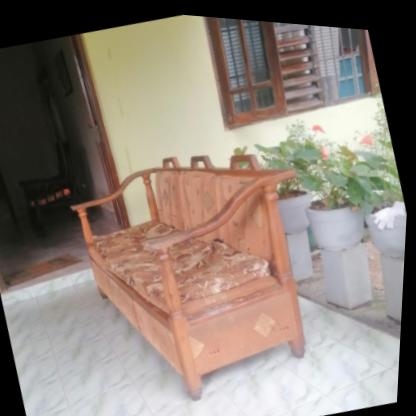Ceramic floor: (3, 262, 404, 416)
Sofa: (55, 113, 352, 416)
